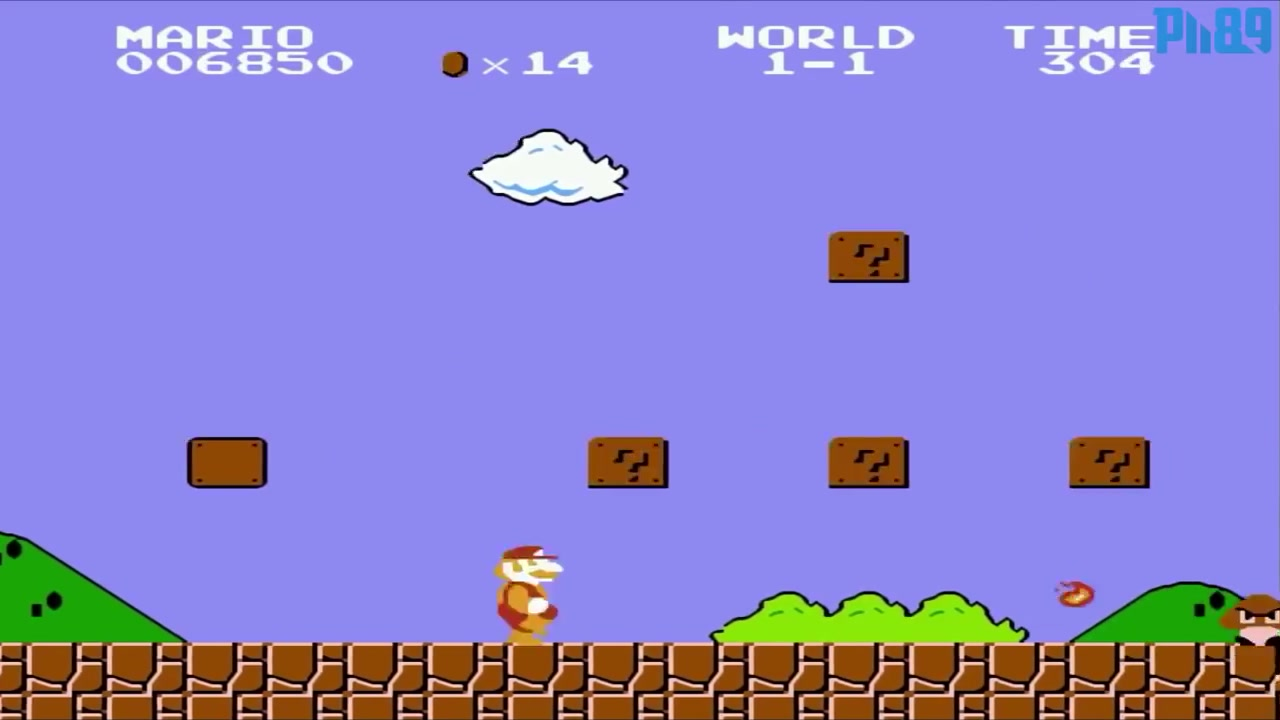mario: (479, 524, 577, 649)
